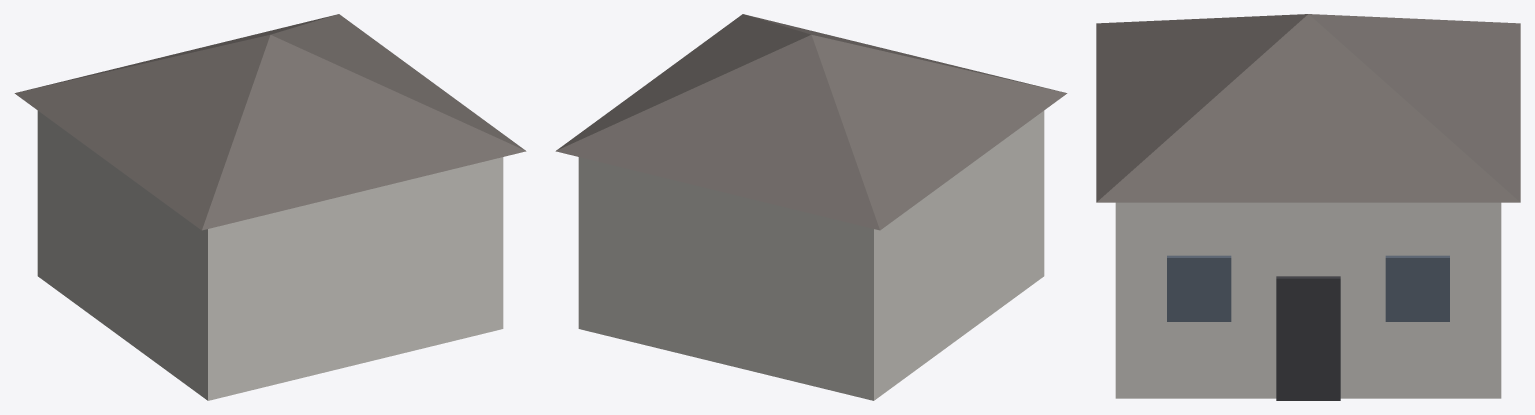
Rendered from house-a.glb.
3 renders of one model, left to right at view 1: azimuth 30°, elevation 25°; view 2: azimuth 150°, elevation 25°; view 3: azimuth 270°, elevation 25°, orthographic. The views are drawn at different scales.
Visible parts, largest first — view 1: house-a; view 2: house-a; view 3: house-a.
Boxes of the visible parts, x1,y1,x2,y2 form: house-a: (14,14,526,400); house-a: (555,14,1067,400); house-a: (1096,14,1520,400).
Bounding box in the file's own units: 6.6 × 5.2 × 6.6.
